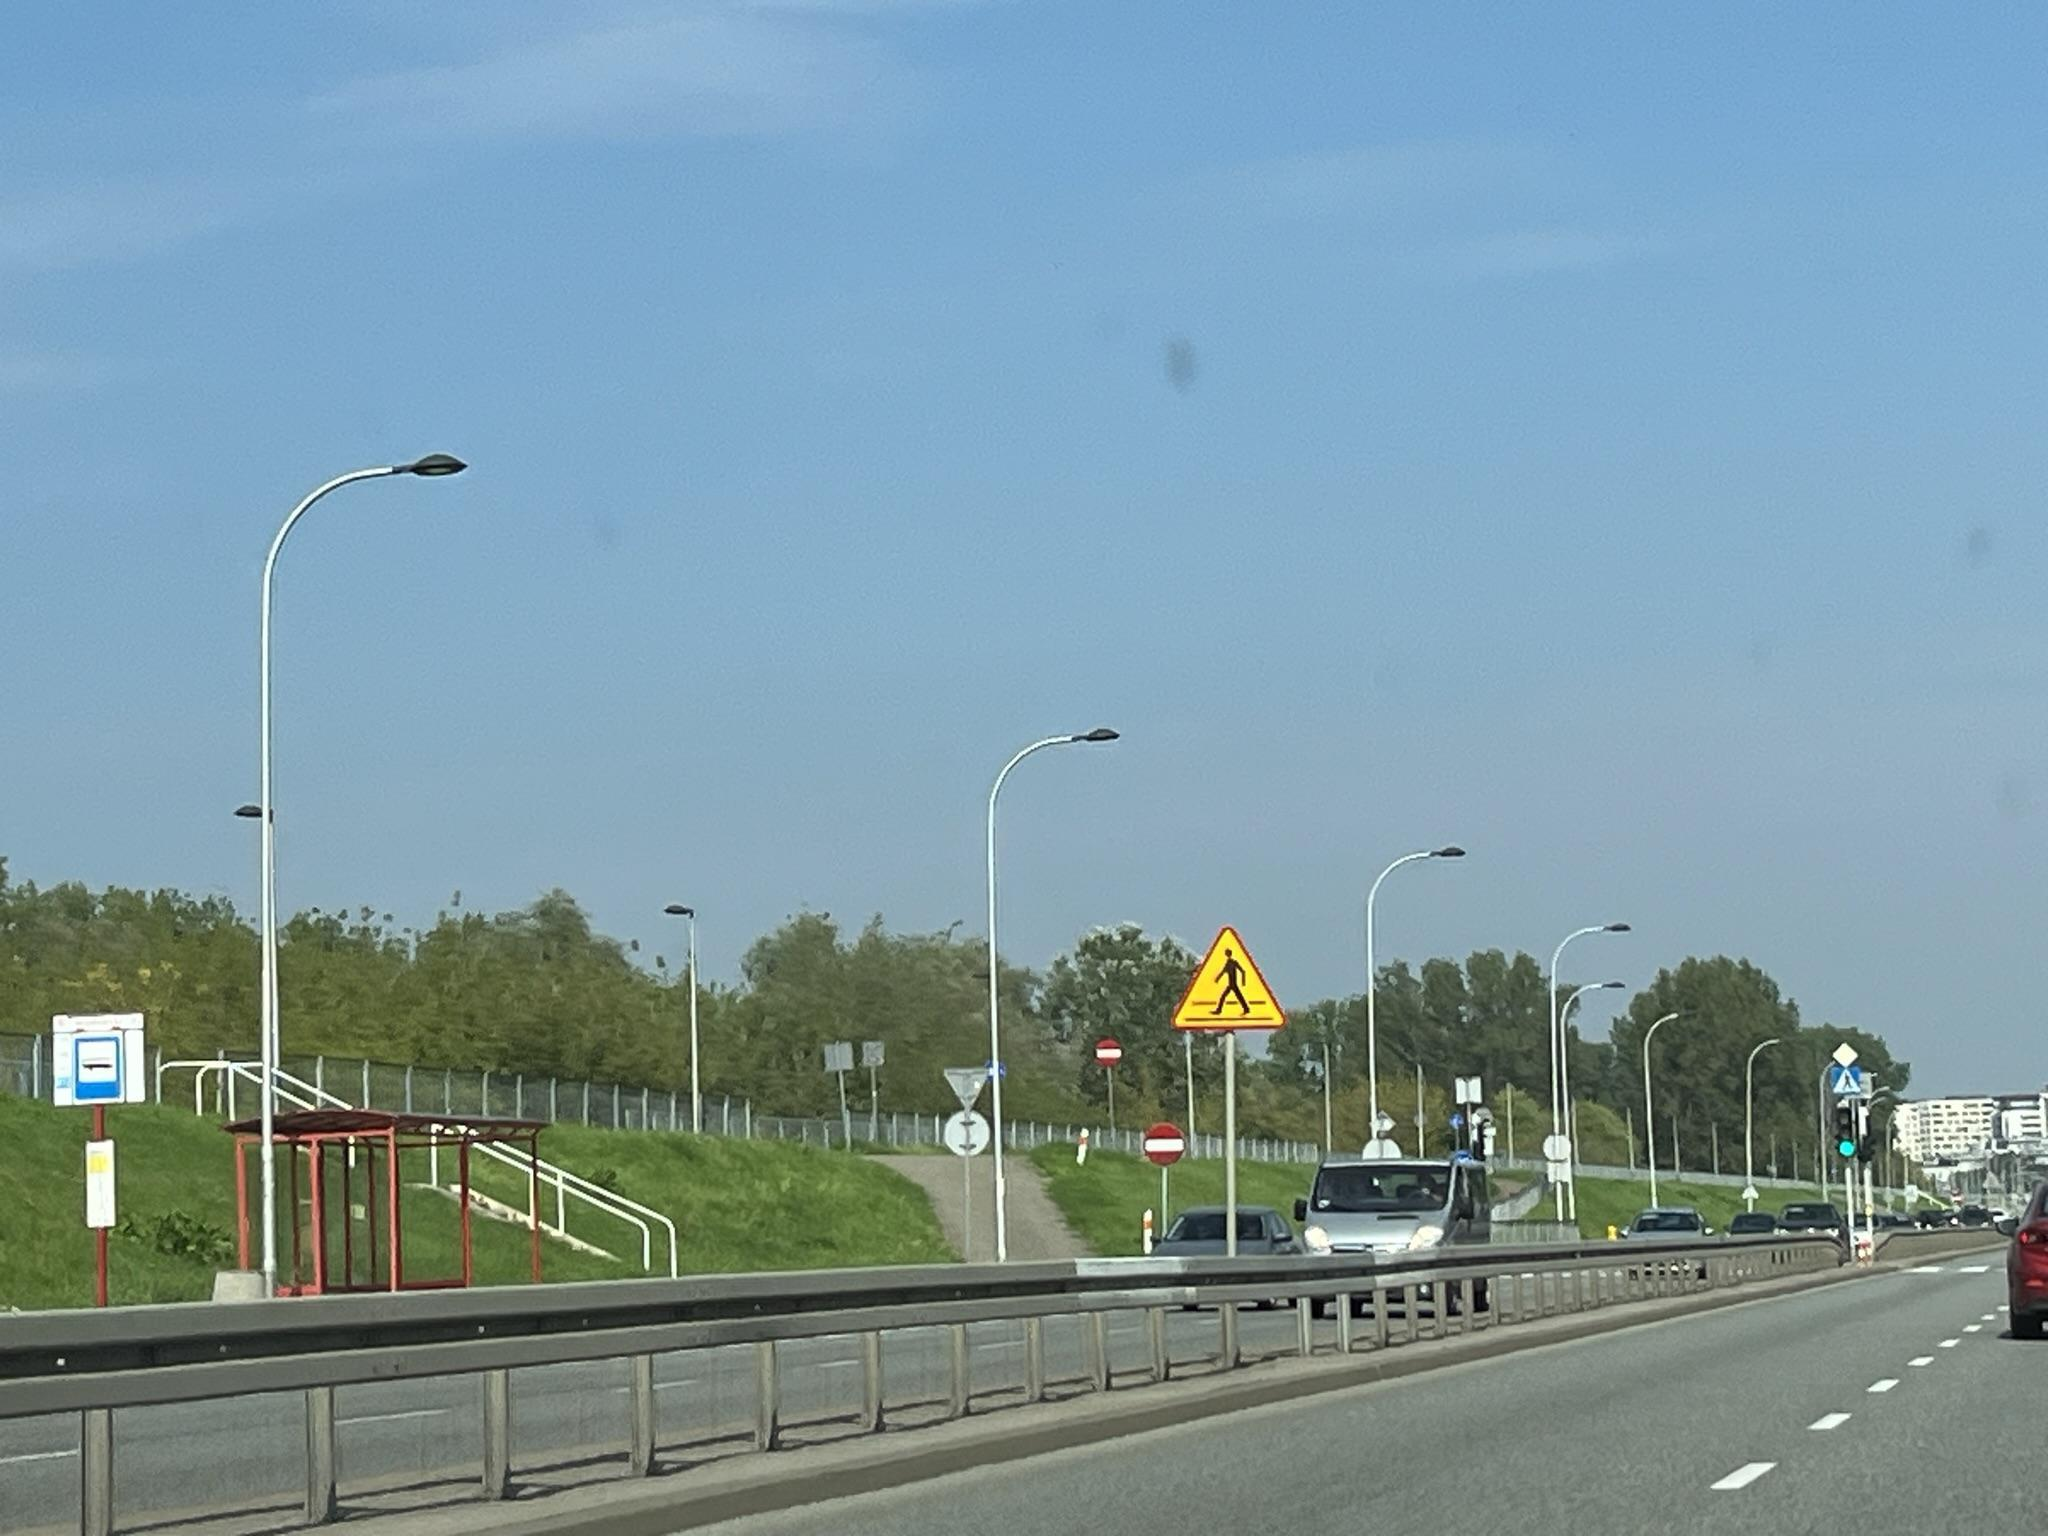information: (74, 1036, 121, 1098), (1832, 1067, 1861, 1095), (1831, 1042, 1861, 1068)
prohibitory: (1143, 1121, 1187, 1169), (1095, 1037, 1123, 1068)
warning: (1171, 925, 1289, 1031)
